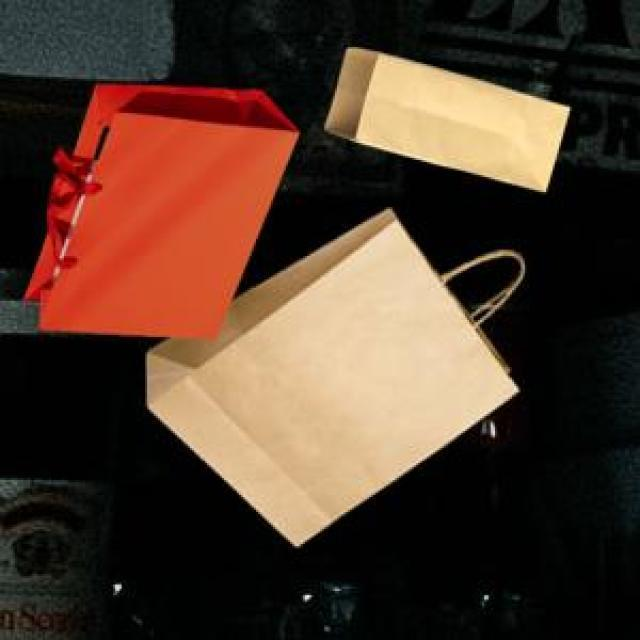paper: (143, 205, 518, 542), (19, 81, 294, 335), (320, 45, 565, 188)
